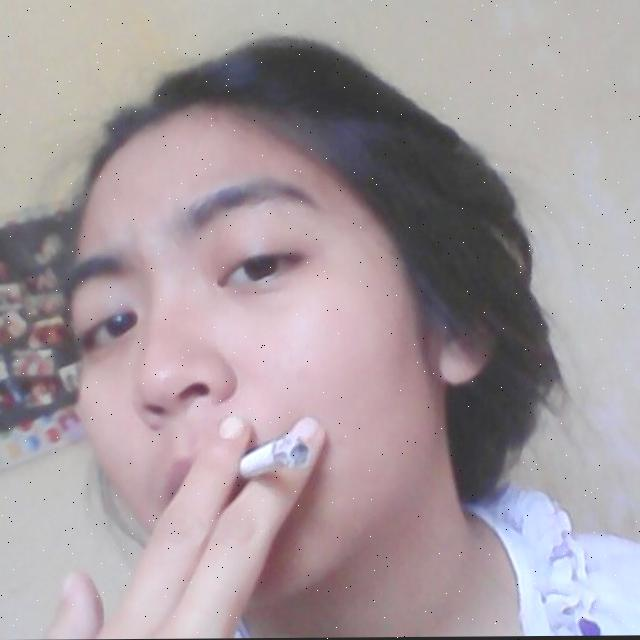cigarette: (238, 433, 312, 478)
